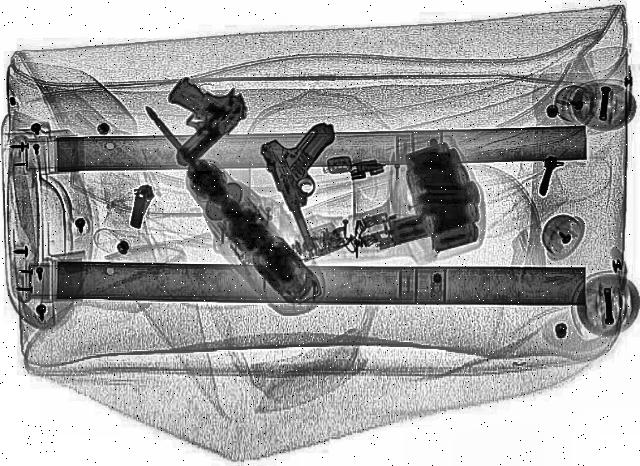Gun: (253, 123, 379, 253), (123, 72, 264, 174)
